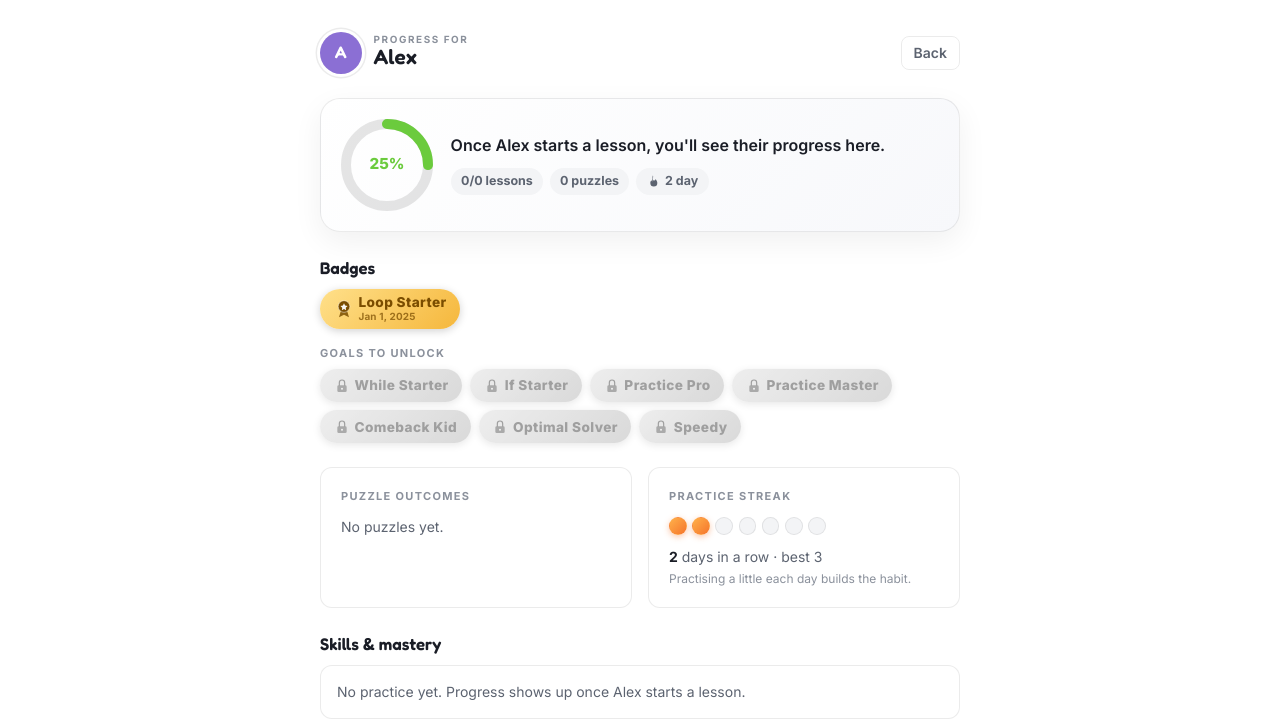
ParentPage — badge chips (Task 8) › clicking an earned badge chip opens the detail card
Click the button "Loop Starter Jan 1, 2025" at (390, 309), box top-left (320, 289), bottom-right (460, 329)
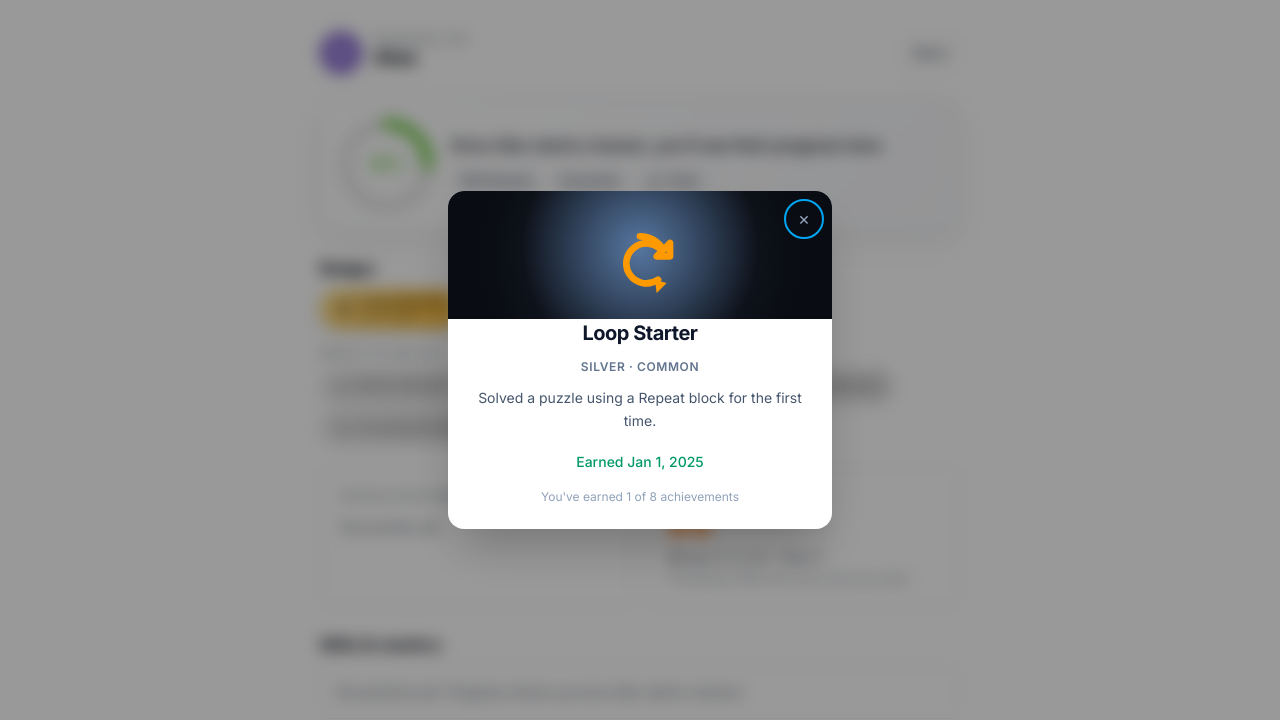
Expected: the dialog is shown, top-left (448, 191), bottom-right (832, 529)
